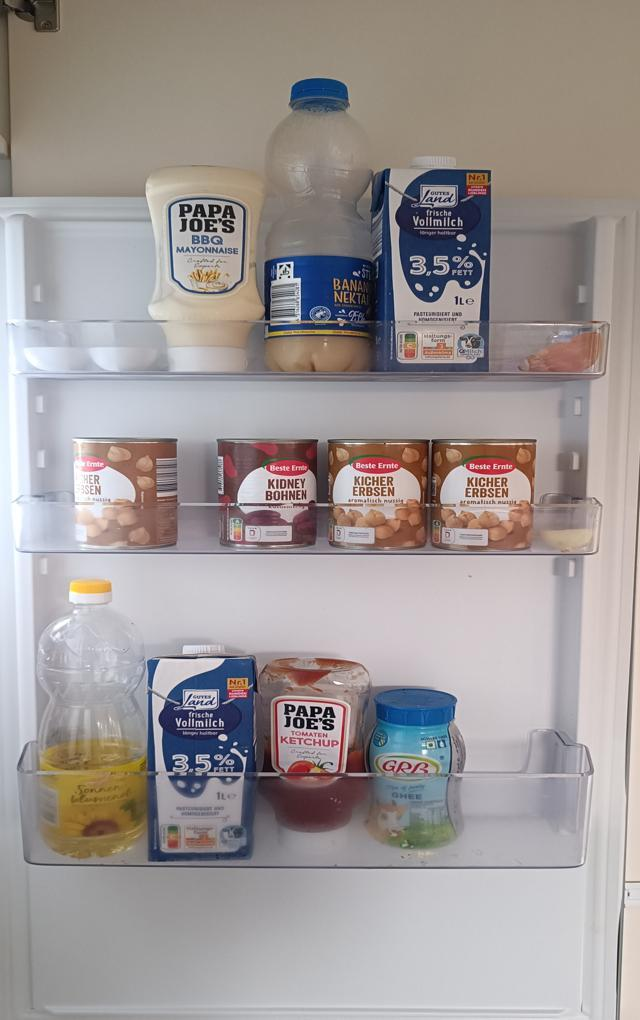bananajuice: (264, 75, 382, 374)
chickpeas: (72, 436, 181, 546), (327, 439, 429, 551), (433, 437, 535, 548)
ghee: (365, 683, 467, 853)
kidneybeans: (219, 436, 319, 548)
mayoniasie: (145, 162, 268, 379)
milk: (372, 154, 494, 376), (147, 644, 257, 865)
oil: (39, 576, 151, 861)
tomatoketchup: (255, 658, 375, 858)
